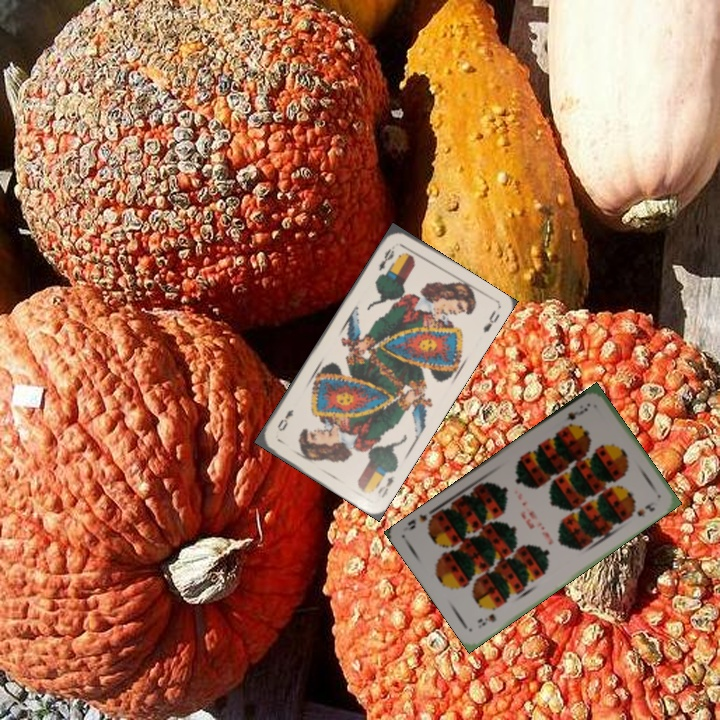EO: (374, 241, 398, 273), (374, 472, 398, 500)
S9: (563, 403, 590, 423), (473, 610, 499, 629)
